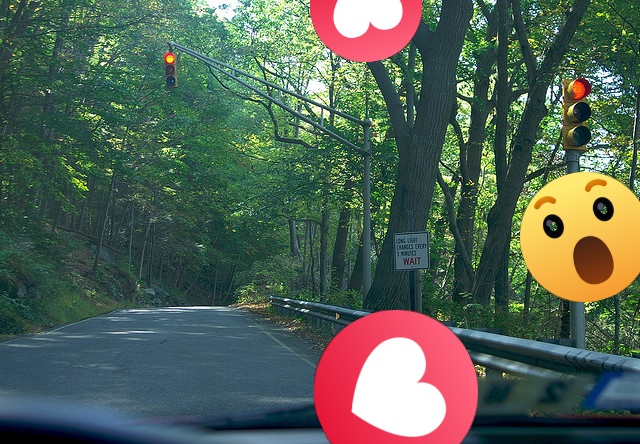love: (314, 310, 478, 444), (310, 0, 422, 62)
wow: (520, 172, 640, 302)
